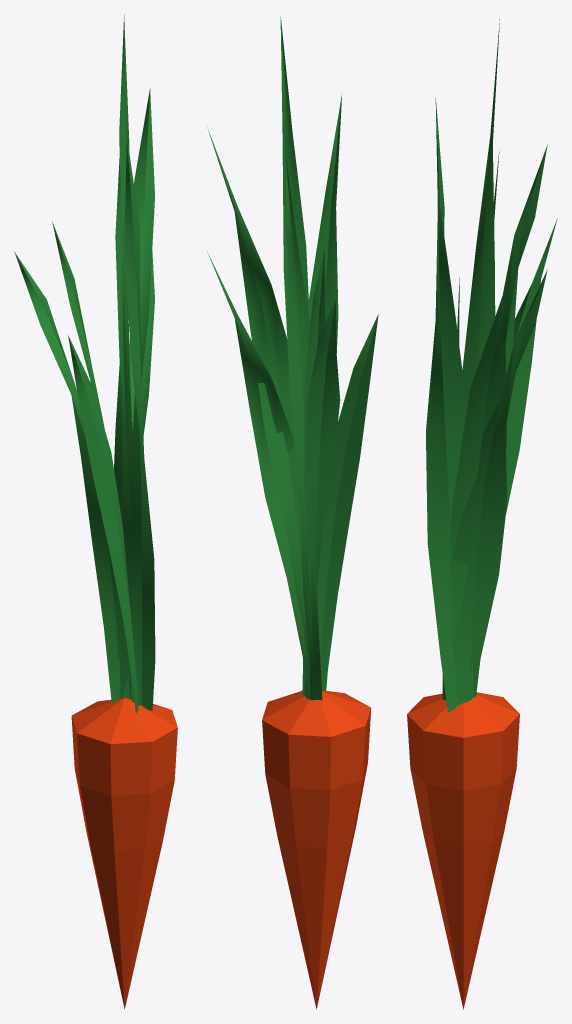
The model's file is carrot.fbx.
3 renders of one model, left to right at view 1: azimuth 30°, elevation 25°; view 2: azimuth 150°, elevation 25°; view 3: azimuth 270°, elevation 25°, orthographic. The views are drawn at different scales.
Parts seen in each view (by area): view 1: Sphere086; view 2: Sphere086; view 3: Sphere086.
Boxes of the visible parts, bbox=[...] form: Sphere086: bbox=[14, 14, 177, 1009]; Sphere086: bbox=[207, 17, 378, 1009]; Sphere086: bbox=[407, 19, 557, 1009].
Bounding box in the file's own units: 41.77 × 298 × 40.58.
